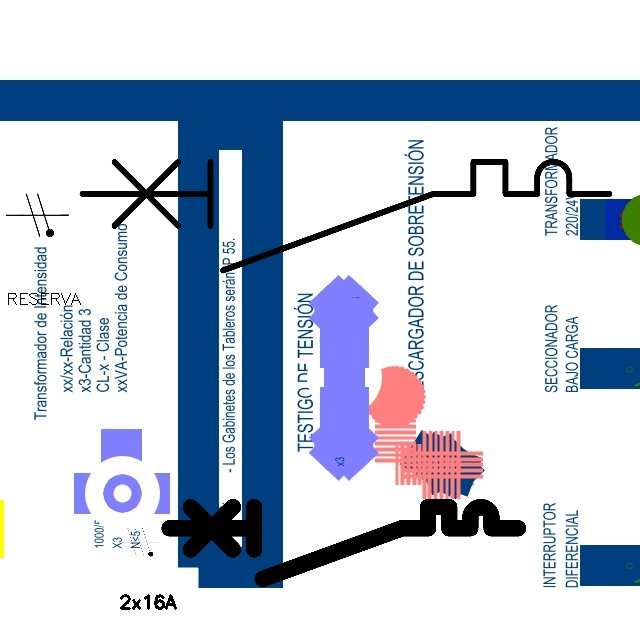interruptor_termomagnetico: (68, 148, 623, 283), (160, 498, 527, 587)
